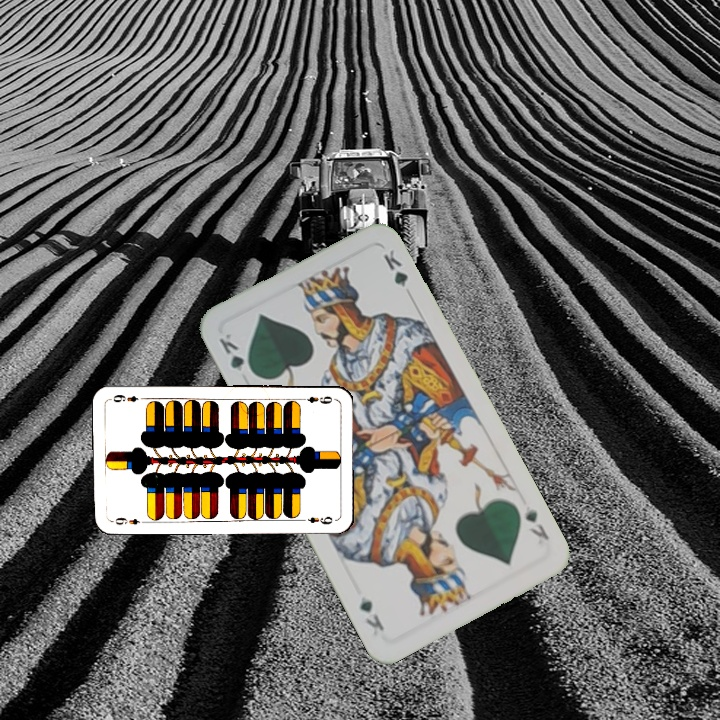E9: (296, 392, 336, 406), (108, 513, 148, 527)
GK: (214, 329, 257, 380), (521, 501, 552, 543)
